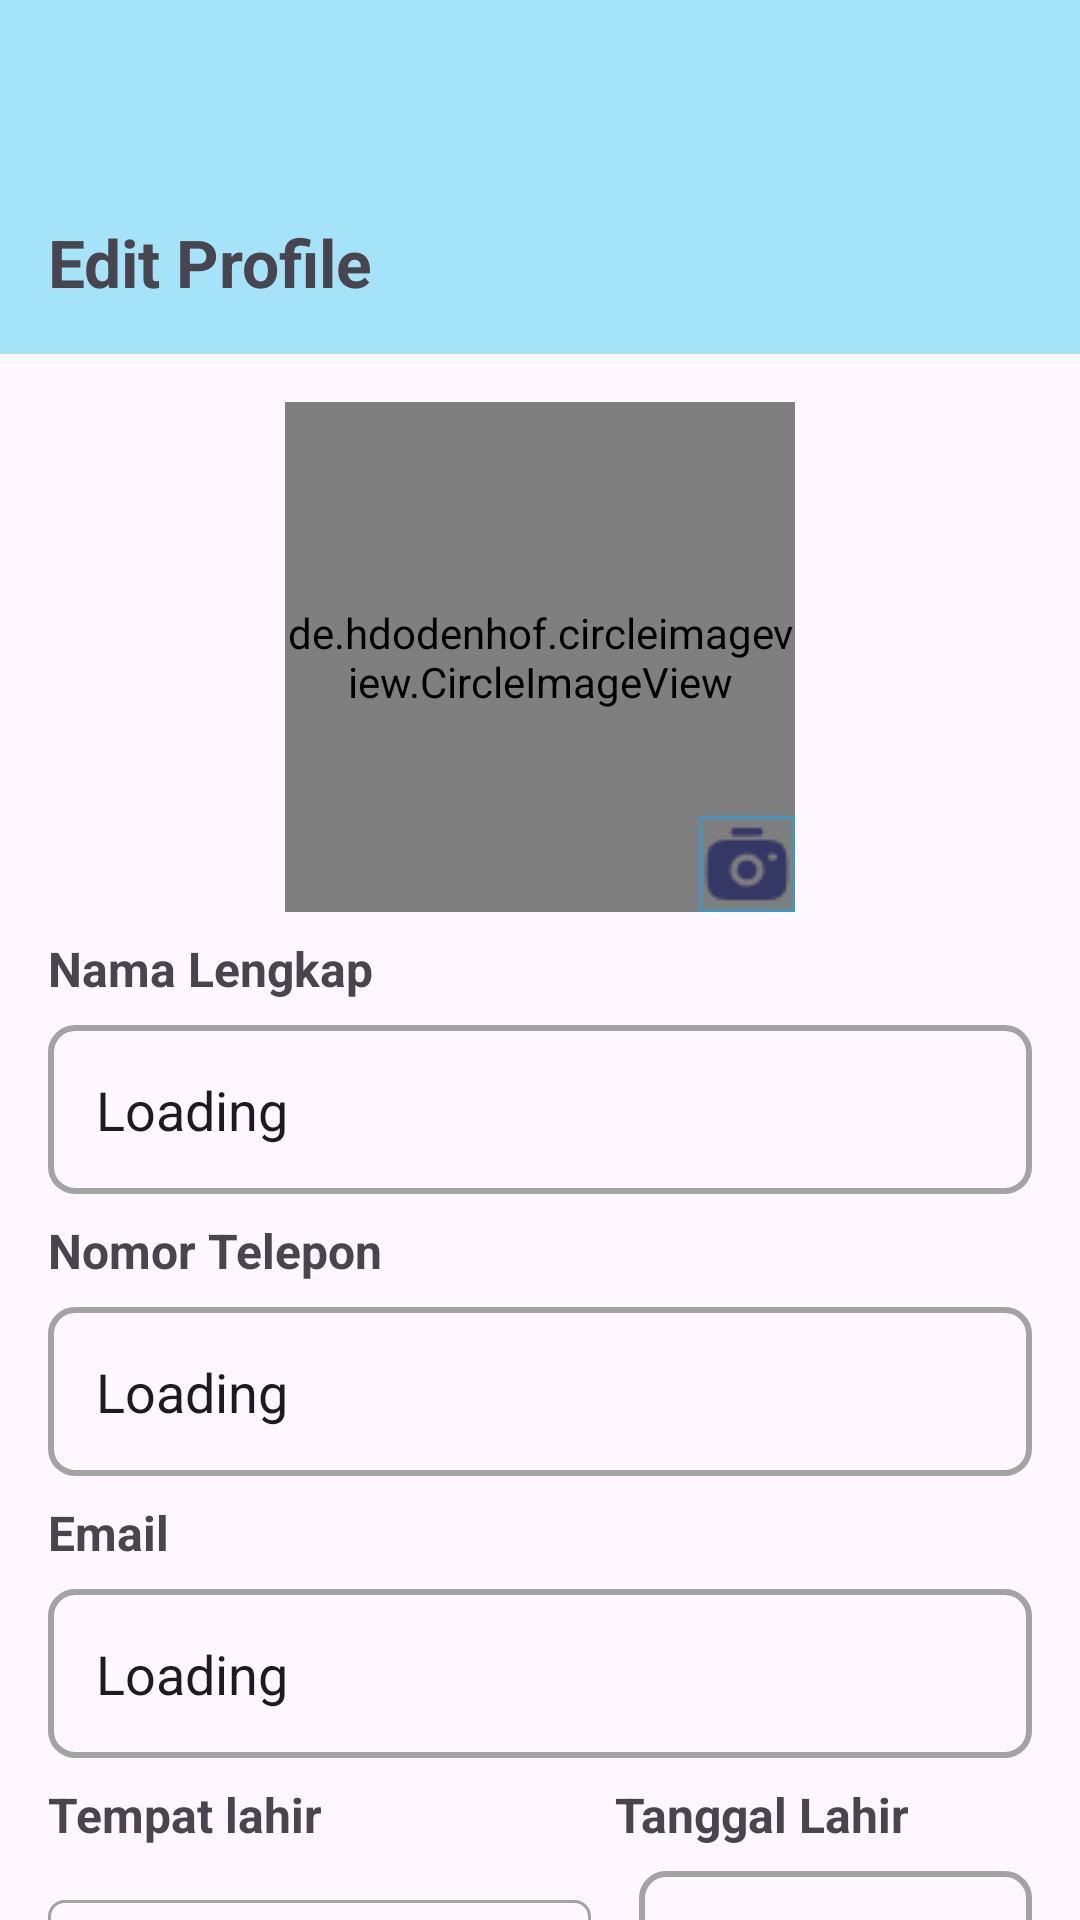

Point at icon controls on the screen. Image size 1080w x 1920h, points as (x,y).
camera minimalistic: (747,864)
